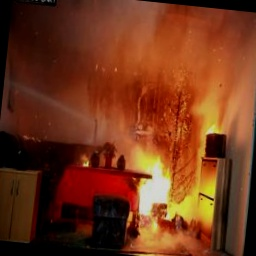fire: (116, 135, 191, 225)
smoke: (56, 0, 184, 119)
